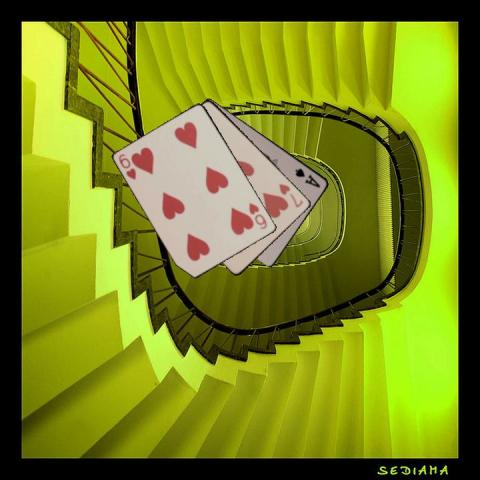6h: (246, 199, 269, 231), (116, 151, 138, 181)
7h: (276, 180, 305, 209)
As: (292, 165, 322, 189)
